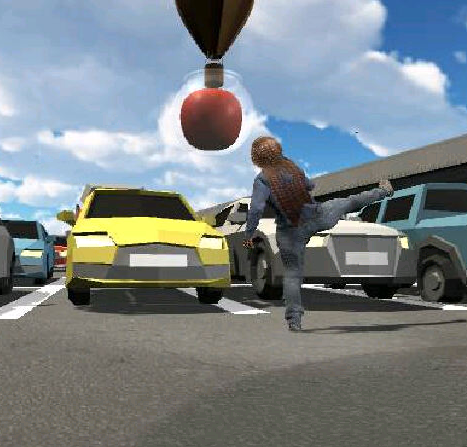turn_right: (246, 133, 393, 334)
